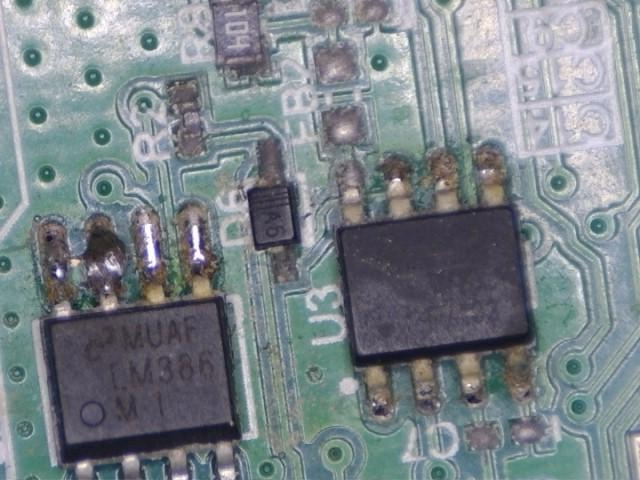pcb_defect: (211, 0, 271, 79)
